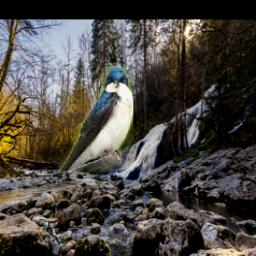Cuckoo: (39, 219, 60, 245)
Swallow: (58, 66, 133, 173)
